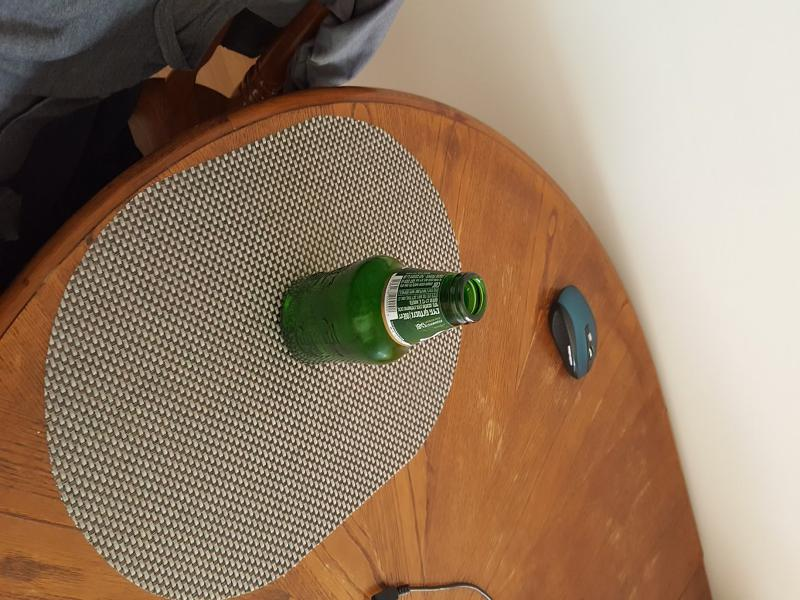Beer: (279, 252, 487, 369)
